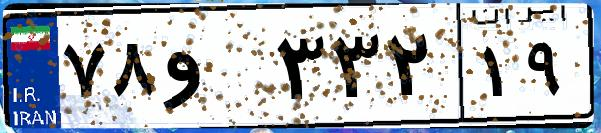1: (475, 38, 525, 113)
2: (385, 28, 445, 110)
3: (270, 28, 330, 110), (330, 28, 385, 110)
7: (57, 26, 110, 100)
8: (110, 28, 158, 98)
9: (525, 38, 570, 115)
و: (158, 20, 270, 120)
